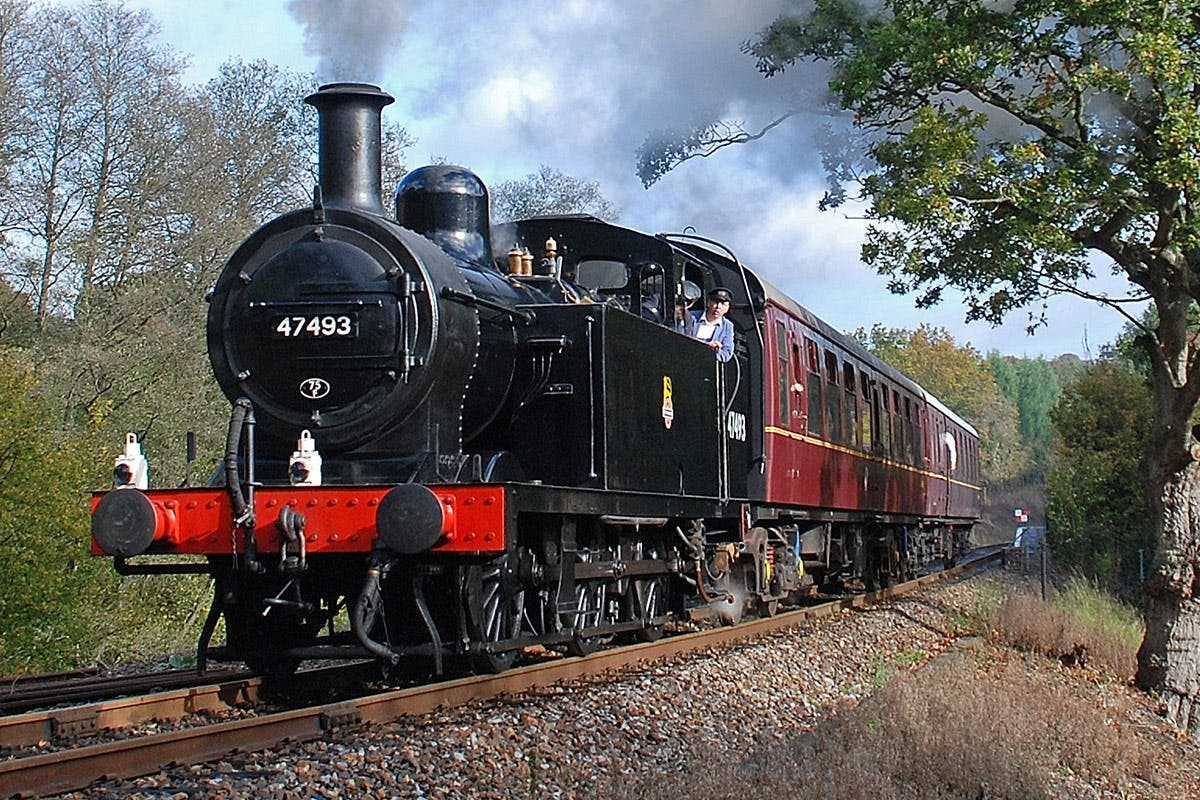person: (689, 283, 742, 363)
train: (90, 78, 988, 687)
